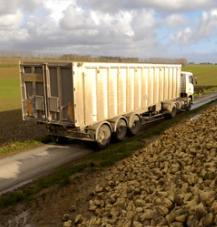vehicle: (19, 61, 197, 146)
